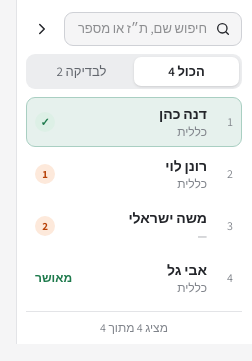
Test: FormList › says so when nothing matches
The width and height of the screenshot is (252, 361).
Type "zzzz" into the field named "חיפוש טפסים". click: [141, 29]
box: top-left (75, 19), bottom-right (207, 38)
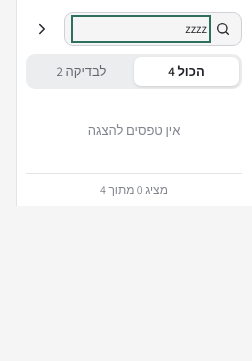
Result: the list item "אין טפסים להצגה" is shown at top-left (88, 122), bottom-right (180, 139)
